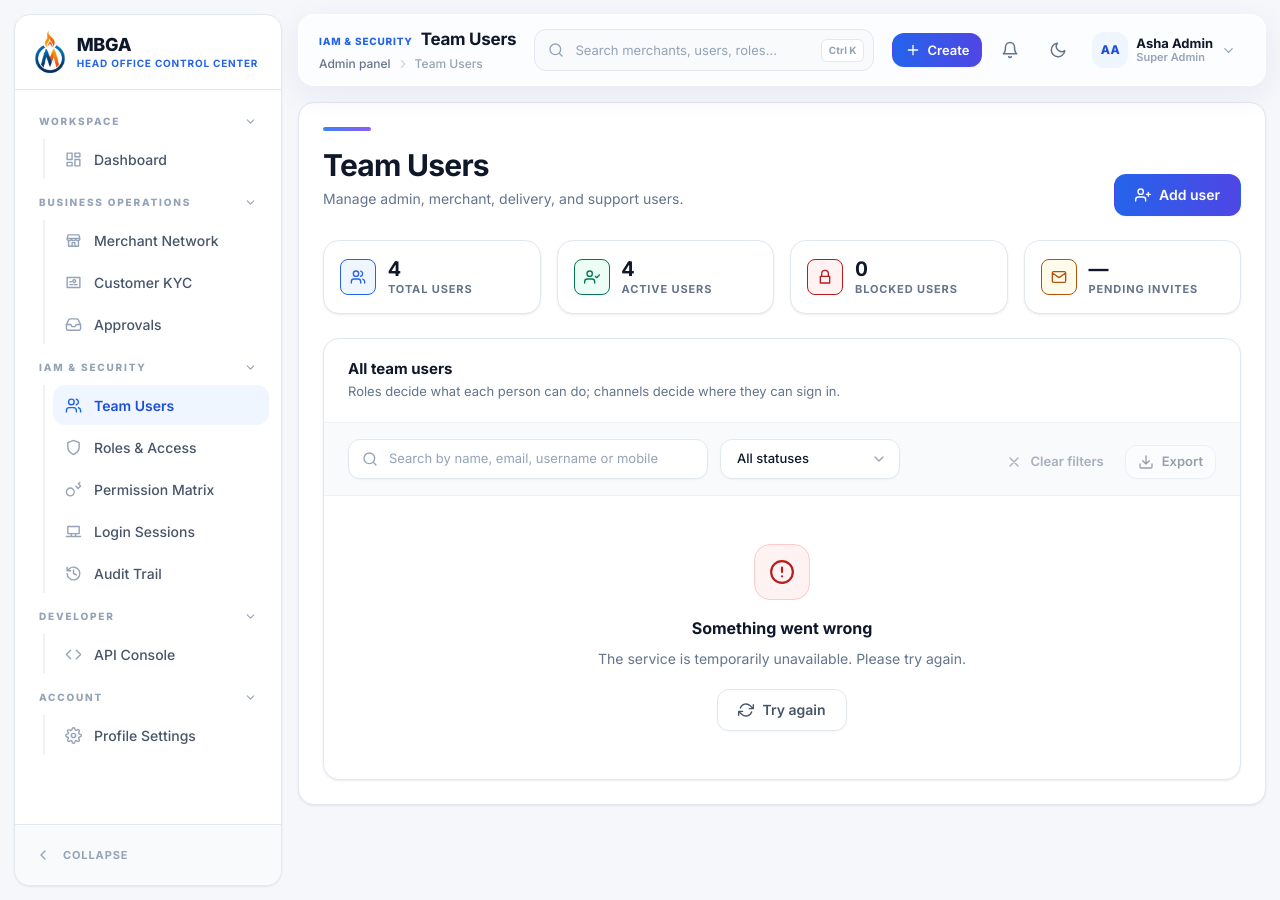
Test: Users page states › shows a safe error with retry when the server fails
The image size is (1280, 900).
Expected: the text "The service is temporarily unavailable. Please try again." is shown, x1=598 y1=648 x2=966 y2=669
What coordinates should you click on to do the following:
click the button "Try again"
I would click on:
 (782, 710)
Its box is x1=718 y1=689 x2=847 y2=731.
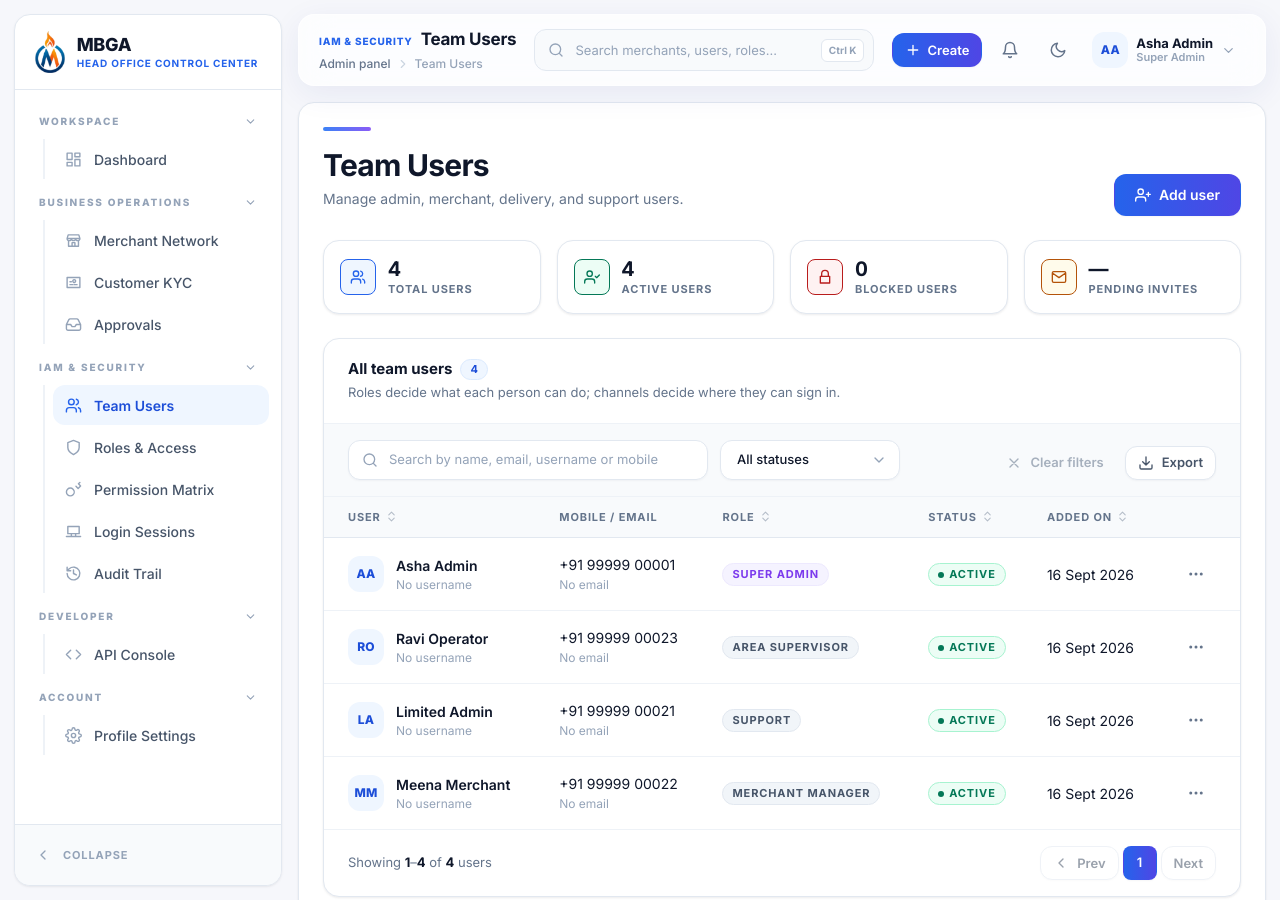
Expected: the text "The service is temporarily unavailable. Please try again." is gone
